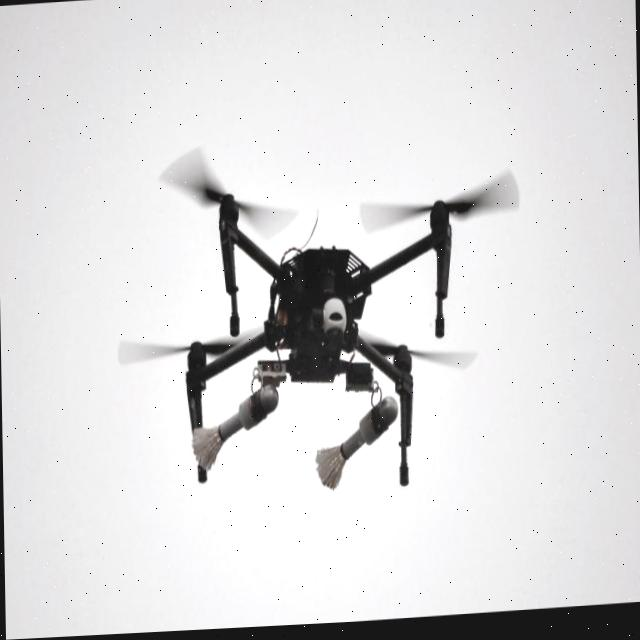drone: (115, 117, 520, 510)
